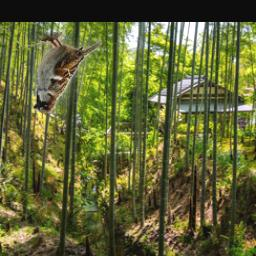Sparrow: (33, 33, 101, 114)
